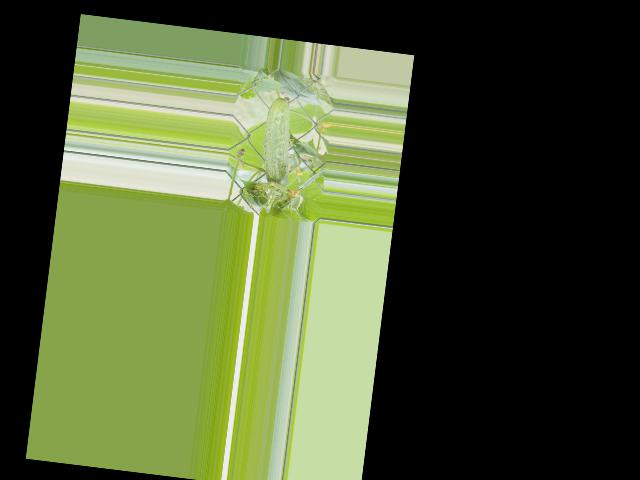cucumber: (258, 90, 297, 191)
